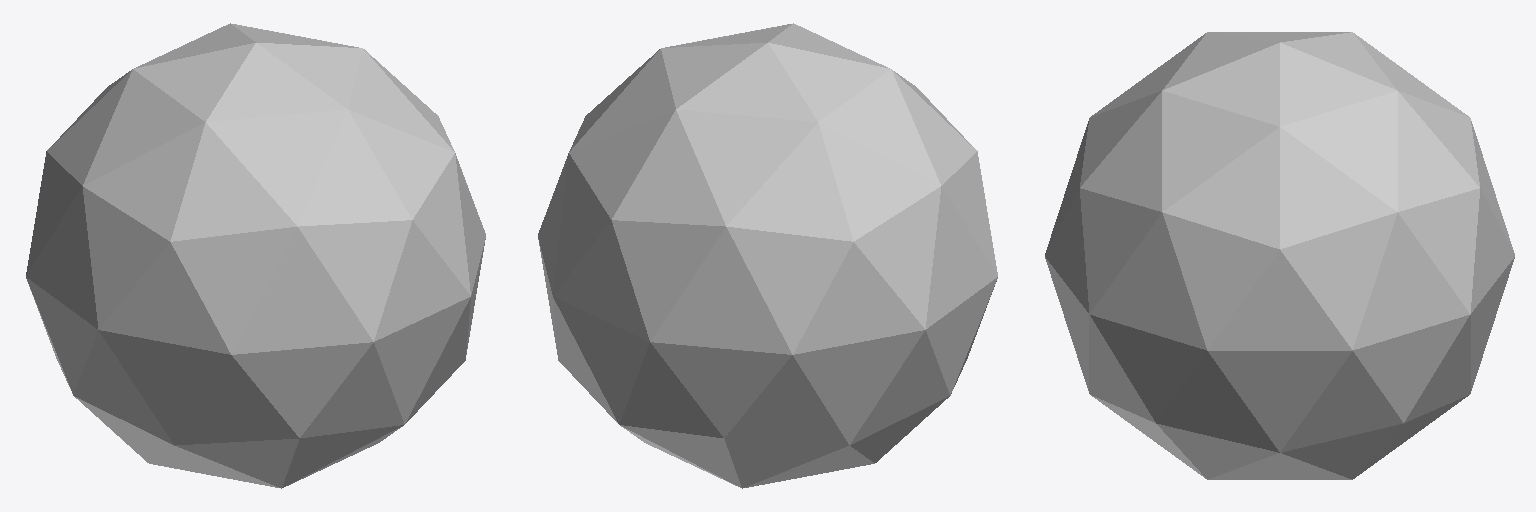
The model's file is ball.obj.
3 views of the same model, side by side, from view 1: azimuth 30°, elevation 25°; view 2: azimuth 150°, elevation 25°; view 3: azimuth 270°, elevation 25° (orthographic).
Parts seen in each view (by area): view 1: Icosphere; view 2: Icosphere; view 3: Icosphere.
Part boxes in pixels (x1,y1,x2,y2): Icosphere: (26,23,485,488); Icosphere: (538,23,997,488); Icosphere: (1045,32,1514,479).
Size of the model in its own units: 0.0093 by 0.0098 by 0.0098.